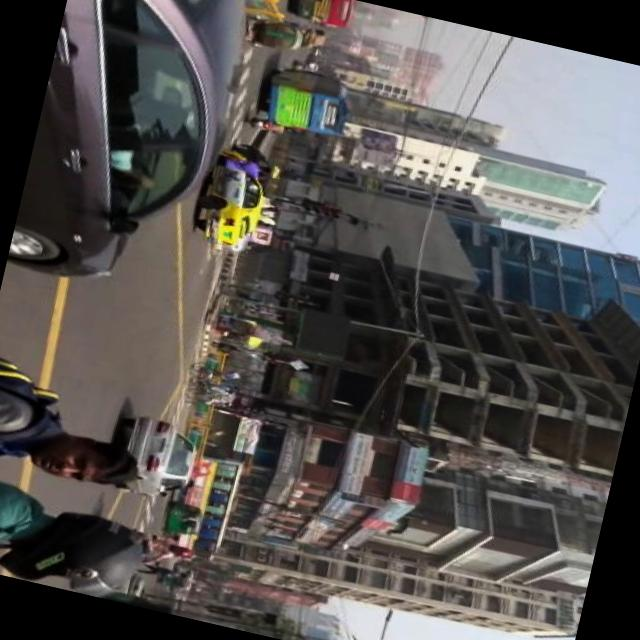bus: (174, 441, 250, 558), (262, 63, 357, 138), (297, 0, 357, 28)
car: (8, 0, 265, 306), (114, 411, 205, 505), (193, 146, 274, 250), (228, 140, 277, 184)
motorcycle: (184, 359, 242, 408), (244, 12, 307, 56), (163, 499, 208, 541), (160, 570, 192, 590), (243, 114, 275, 131)
